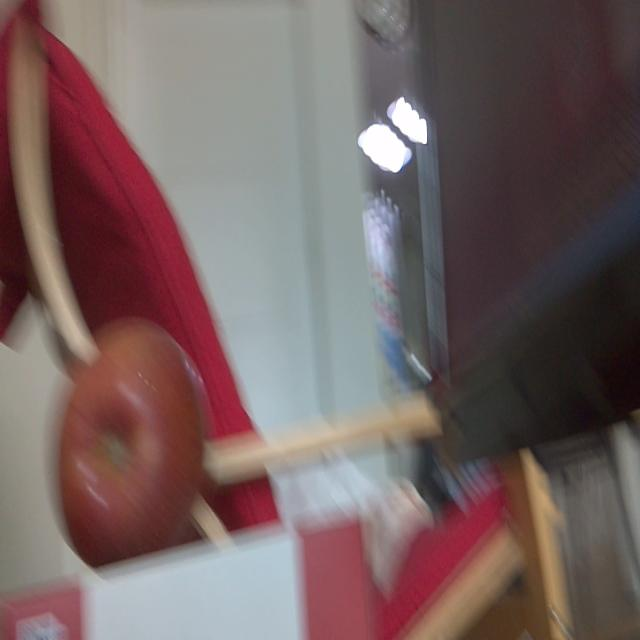apple: (55, 321, 217, 566)
